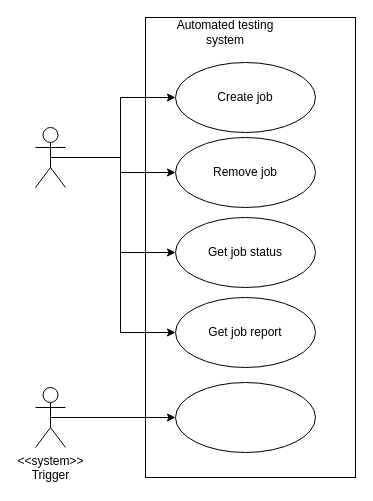
The diagram is 373 pixels wide and 501 high, and some of its shapes have lost their labels. Here are the shapes that lost their labels. From the top down, the centre of each, then its label:
At [50,157]: "User".
At [245,417]: "Run jobs".
